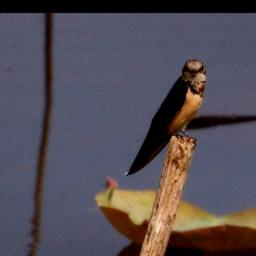Swallow: (126, 58, 208, 180)
